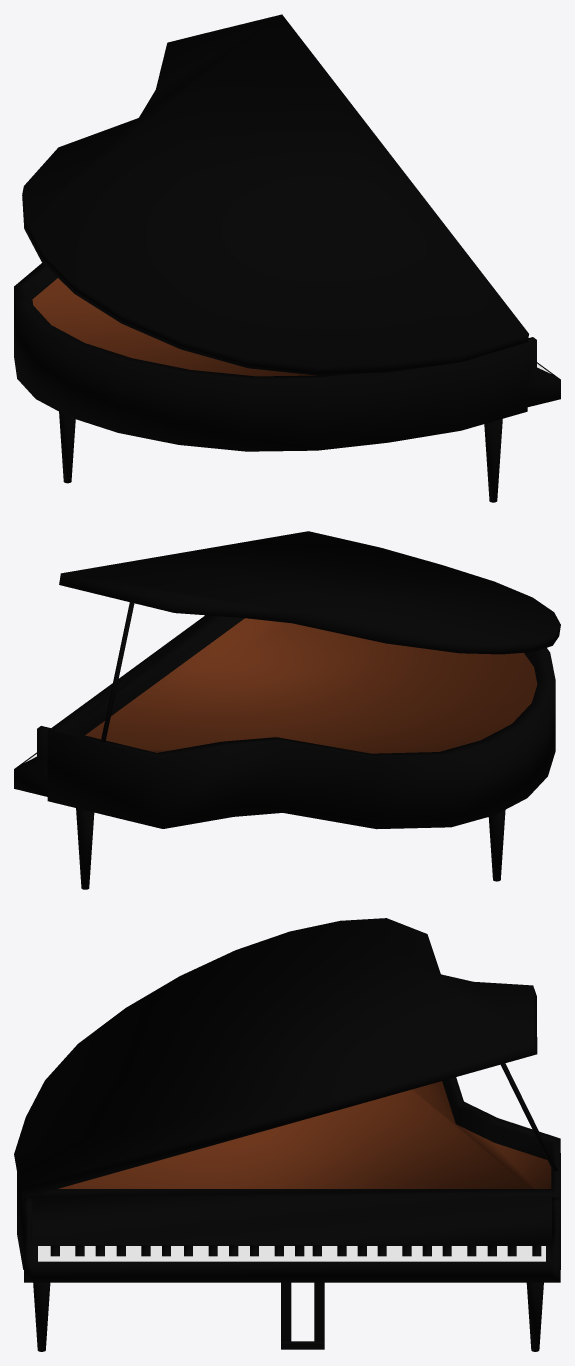
The model's file is Piano.fbx.
3 views of the same model, one above another, from view 1: azimuth 30°, elevation 25°; view 2: azimuth 150°, elevation 25°; view 3: azimuth 270°, elevation 25° (orthographic). The views are drawn at different scales.
Parts seen in each view (by area): view 1: Circle.015; view 2: Circle.015; view 3: Circle.015.
Boxes of the visible parts, <box> form: Circle.015: <box>14,14,560,502</box>; Circle.015: <box>14,531,560,889</box>; Circle.015: <box>14,918,560,1351</box>.
Bounding box in the file's own units: 650 × 490 × 760.
